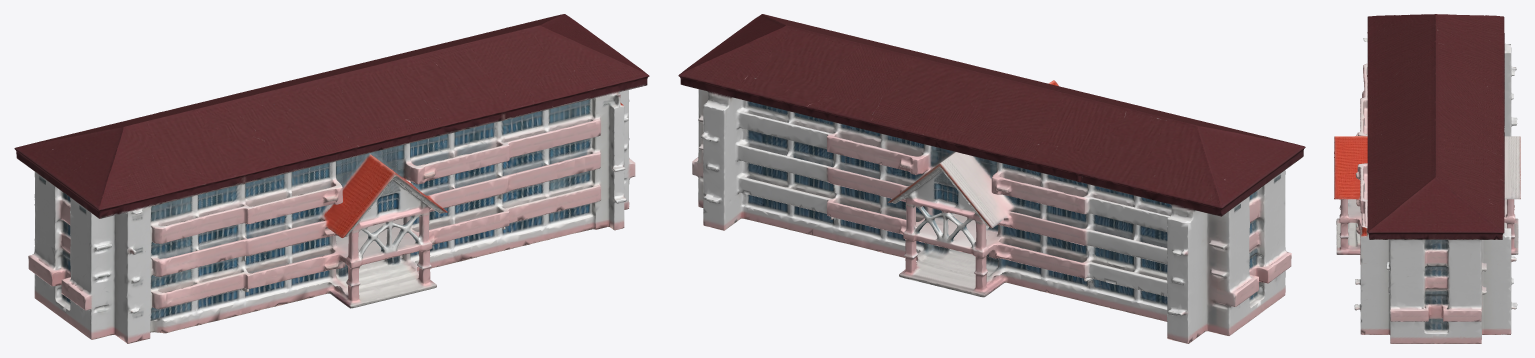
Rendered from bid_21.glb.
The picture shows the model from 3 angles, left to right: view 1: azimuth 30°, elevation 25°; view 2: azimuth 150°, elevation 25°; view 3: azimuth 270°, elevation 25°; orthographic projection. The views are drawn at different scales.
Size of the model in its own units: 1.9 by 0.587 by 0.694.
Materials: 1 (1 with a texture image).
